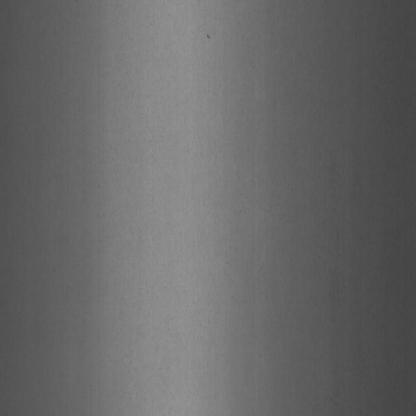inclusion: (204, 23, 214, 49)
